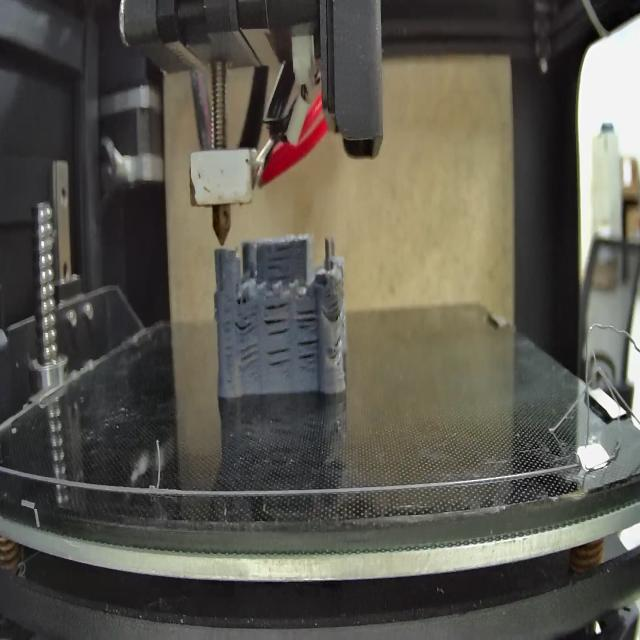cracks: (261, 302, 291, 337), (266, 243, 292, 281), (223, 310, 234, 386), (265, 345, 293, 373), (238, 340, 262, 368), (234, 307, 257, 335), (296, 337, 318, 366), (295, 306, 318, 330), (328, 298, 342, 325), (335, 332, 343, 357), (216, 276, 225, 296)
